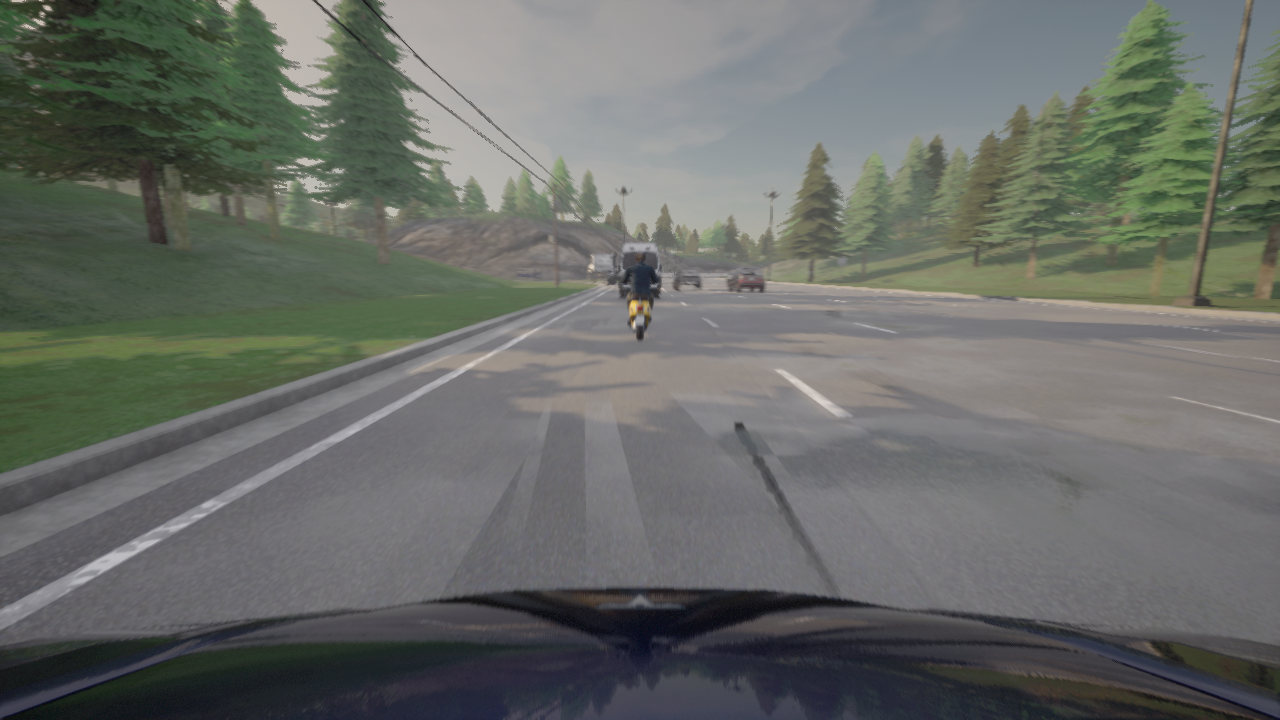cyclist: (0, 588, 1279, 719), (618, 272, 661, 339), (619, 243, 660, 298), (587, 254, 618, 284), (728, 267, 764, 292), (672, 269, 702, 290), (516, 268, 541, 280), (727, 270, 735, 283)
